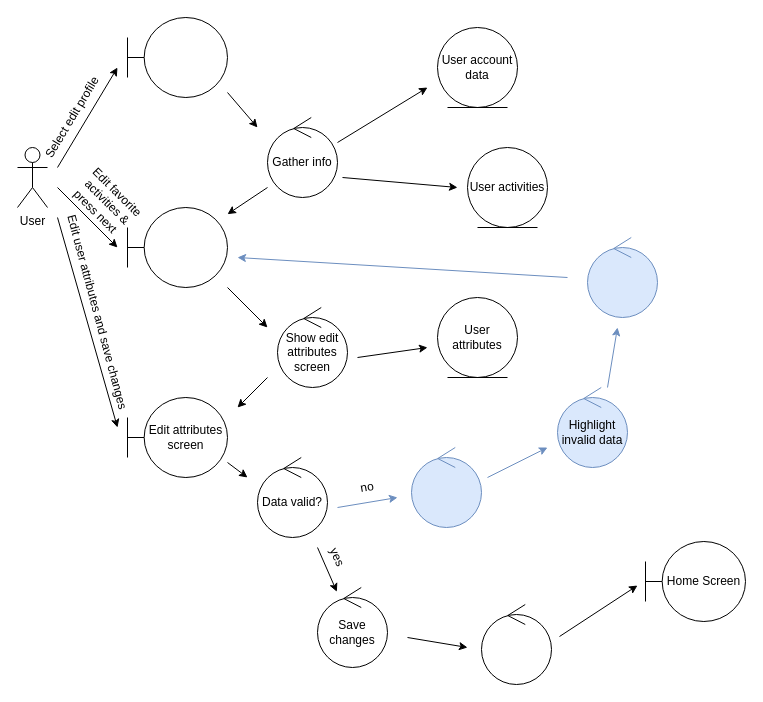
The diagram is 763 pixels wide and 702 high, and some of its shapes have lost their labels. Each missing label, with the centre of its shape:
Edit activities screen: [177,247]
Profile Screen: [177,57]
Show edit activities screen: [622,277]
Show error message: [446,487]
Show main screen: [516,644]
